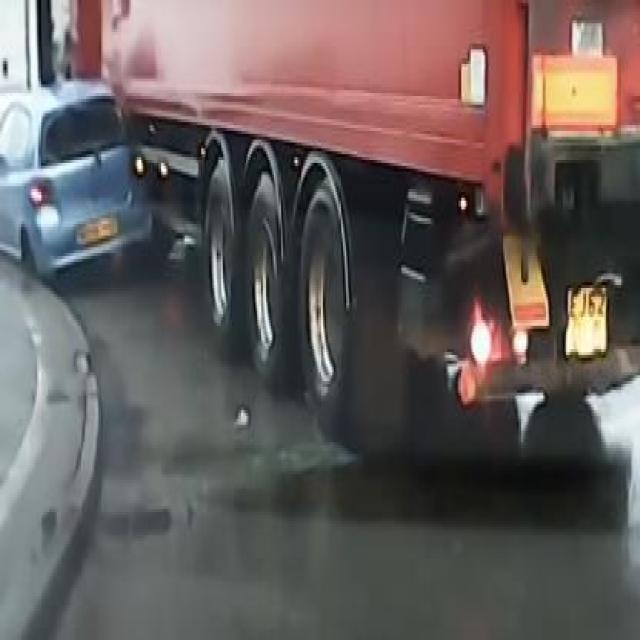accident: (0, 0, 638, 468)
